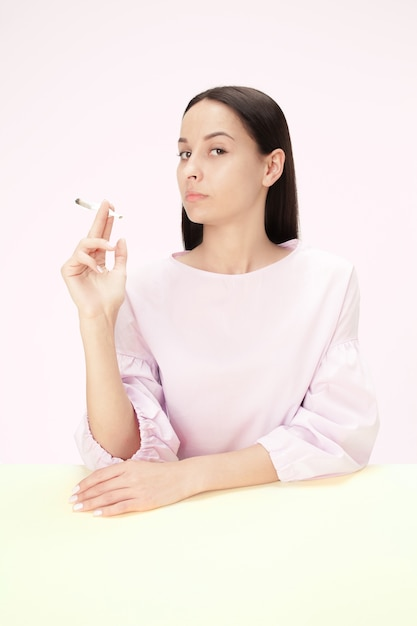cigarette: (74, 198, 125, 221)
